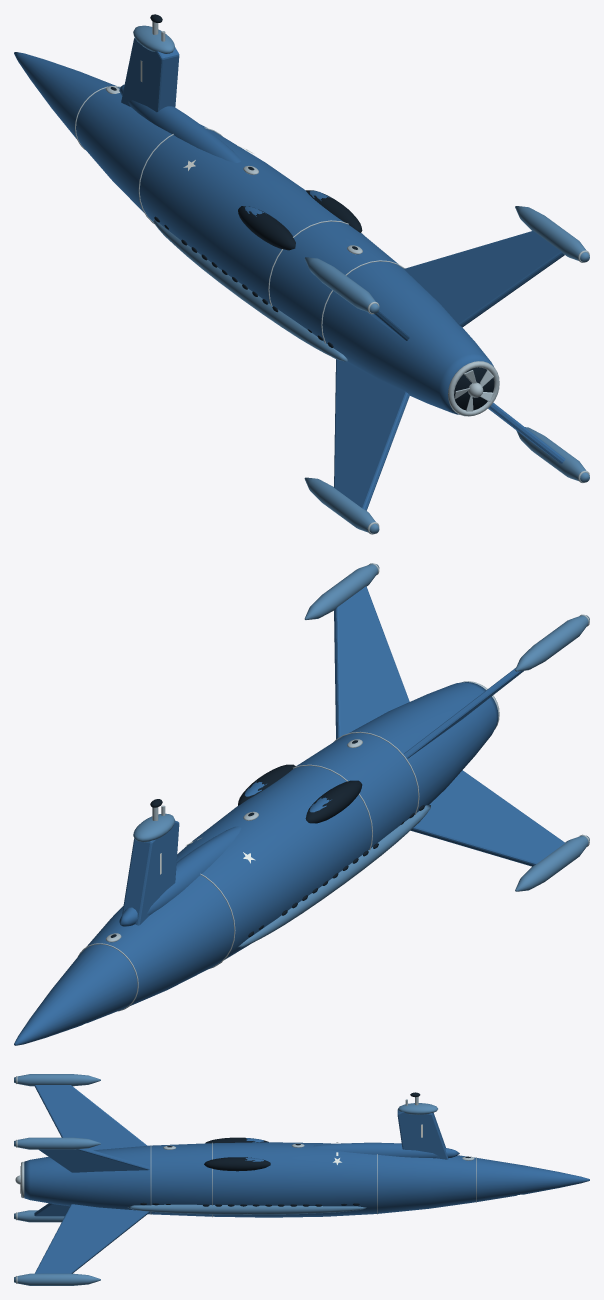
File: corback.glb
The picture shows the model from 3 angles, top to bottom: view 1: azimuth 30°, elevation 25°; view 2: azimuth 150°, elevation 25°; view 3: azimuth 270°, elevation 25°; orthographic projection. The views are drawn at different scales.
Visible parts, largest first — view 1: Corback_Hull, Corback_Rotor_Game; view 2: Corback_Hull; view 3: Corback_Hull.
Boxes of the visible parts, x1=… form: Corback_Hull: x1=14, y1=14, x2=589, y2=534; Corback_Rotor_Game: x1=454, y1=370, x2=493, y2=411; Corback_Hull: x1=14, y1=563, x2=589, y2=1045; Corback_Hull: x1=14, y1=1074, x2=589, y2=1285.
Size of the model in its own units: 3.44 by 3.76 by 12.2.
